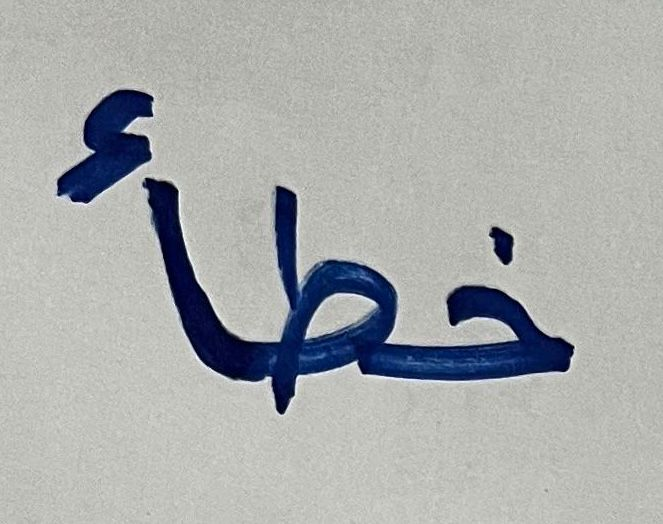hamza: (42, 41, 222, 394)
khah: (411, 184, 594, 439)
tah: (226, 166, 407, 435)
